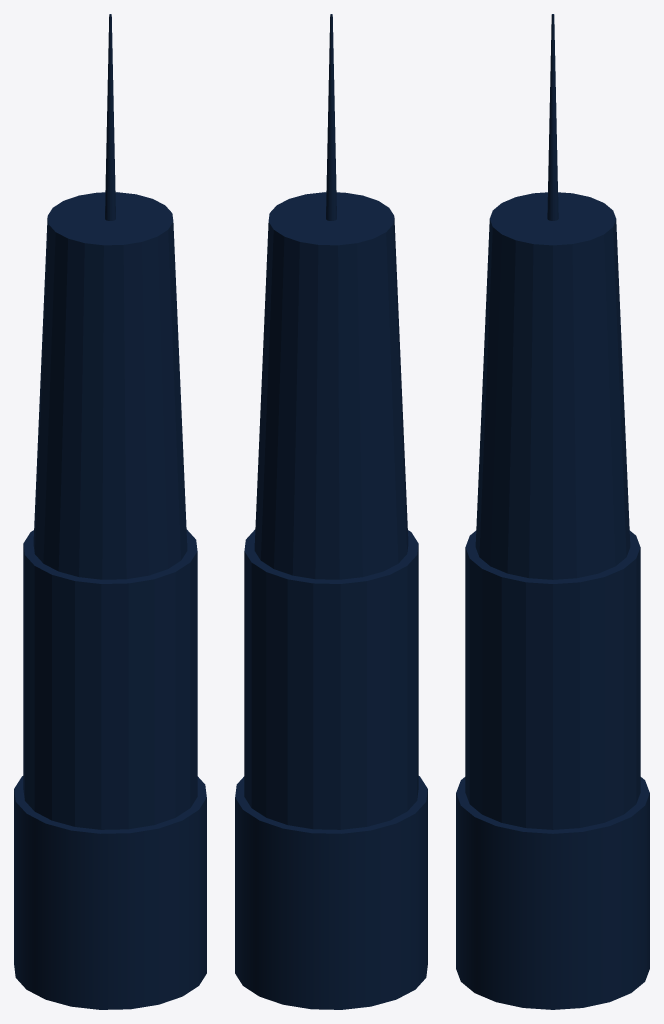
File: edificio 5.fbx
3 views of the same model, side by side, from view 1: azimuth 30°, elevation 25°; view 2: azimuth 150°, elevation 25°; view 3: azimuth 270°, elevation 25° (orthographic).
Visible parts, largest first — view 1: polySurface4328; view 2: polySurface4328; view 3: polySurface4328.
Part boxes in pixels (box(x1,y1,x2,y2)): polySurface4328: box(14, 14, 206, 1009); polySurface4328: box(235, 14, 427, 1009); polySurface4328: box(456, 14, 649, 1009).
Size of the model in its own units: 373 by 2026 by 373.
